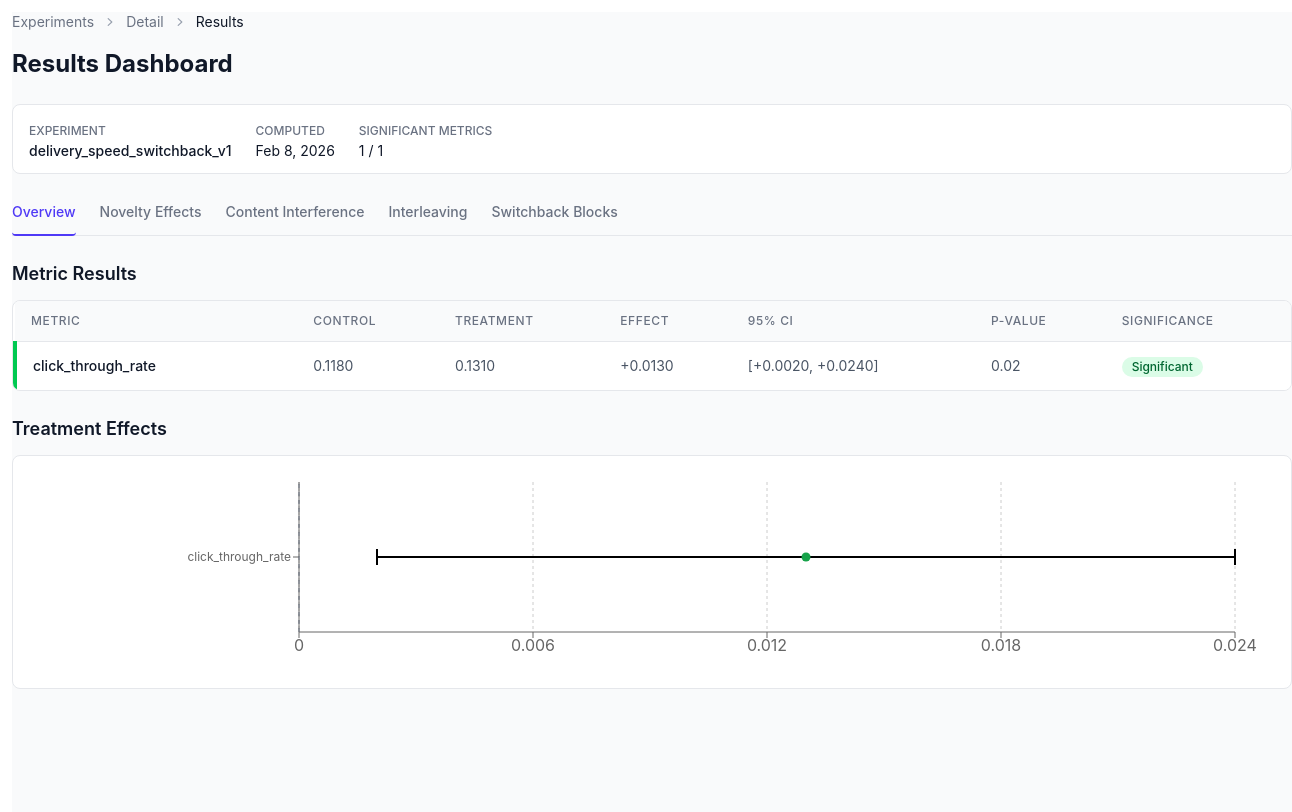
Scenario: Switchback Tab — delivery_speed_switchback_v1 › switches to Switchback Blocks tab and shows ATE estimate
The width and height of the screenshot is (1292, 812).
Click the tab "Switchback Blocks" at coordinates (555, 217), box [492,198,618,236]
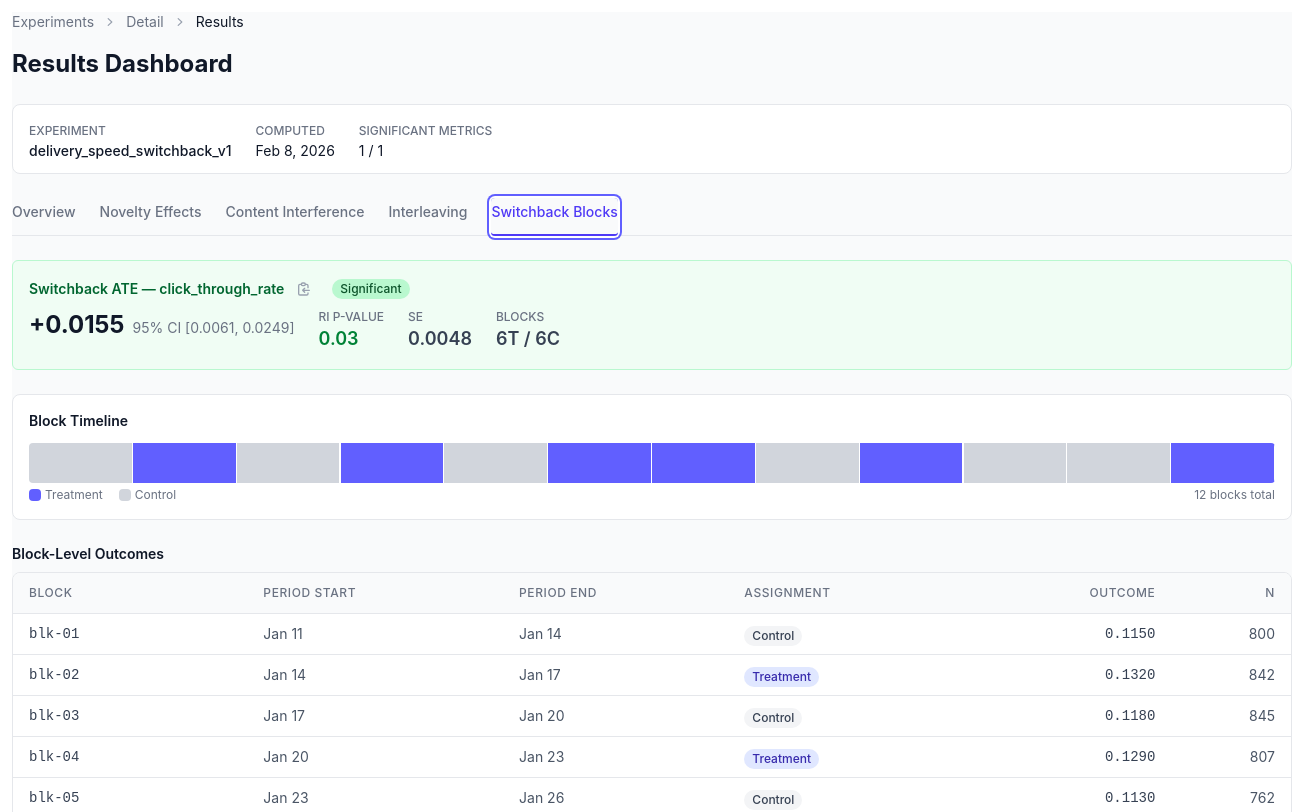
expect the text "+0.0155" is shown: met, box [29,310,124,339]
